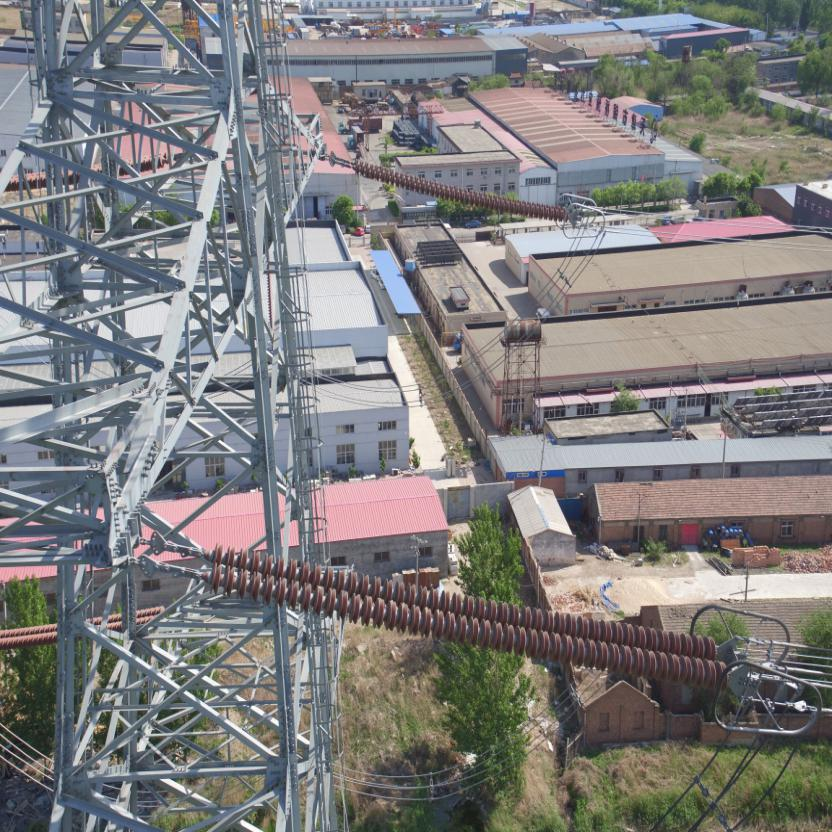insulator: (173, 538, 734, 696), (340, 153, 570, 226)
